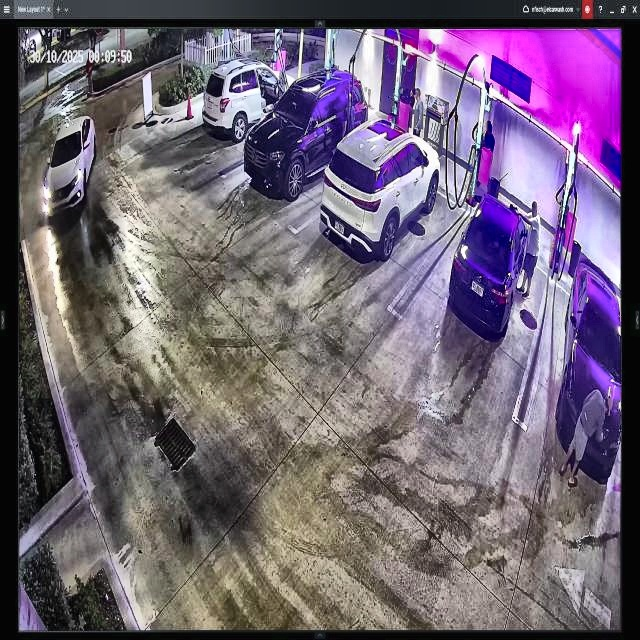Car: (242, 65, 364, 193), (329, 122, 437, 260), (446, 194, 522, 340)
